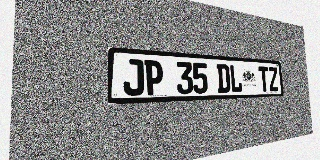3: (176, 62, 193, 94)
5: (192, 62, 208, 94)
D: (216, 64, 230, 93)
J: (123, 58, 144, 96)
L: (229, 65, 243, 93)
P: (144, 60, 163, 95)
T: (258, 66, 270, 92)
Z: (268, 67, 279, 91)
